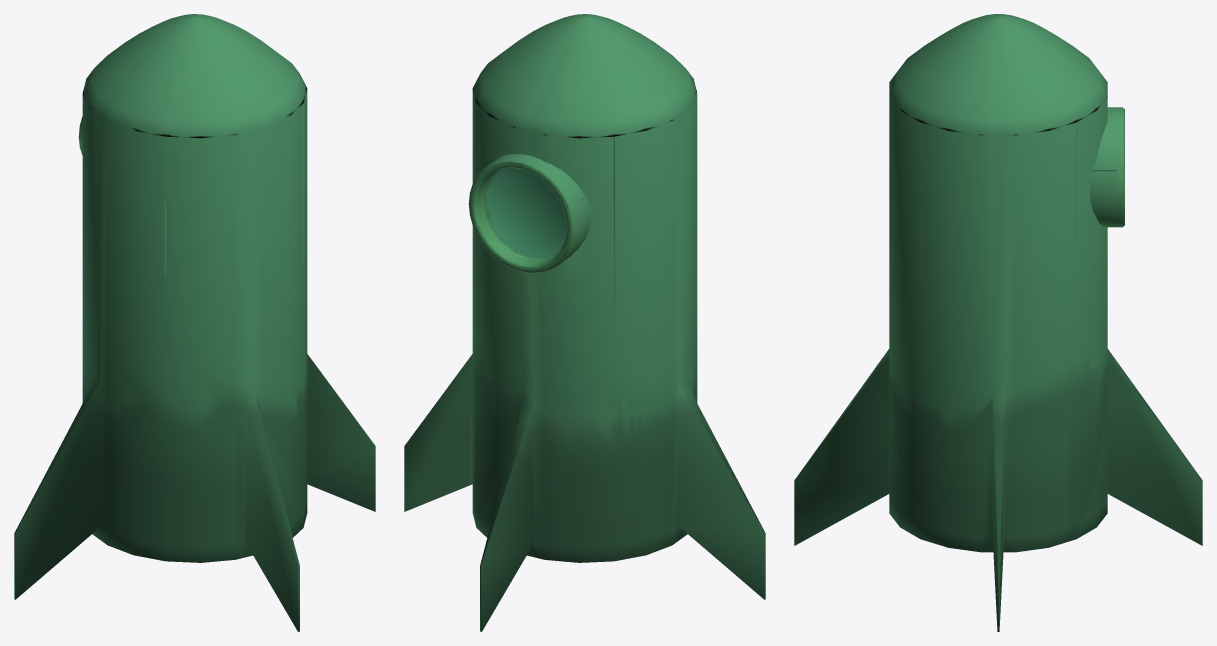
The model's file is rocket.glb.
3 renders of one model, left to right at view 1: azimuth 30°, elevation 25°; view 2: azimuth 150°, elevation 25°; view 3: azimuth 270°, elevation 25°, orthographic.
Visible parts, largest first — view 1: Cylinder; view 2: Cylinder; view 3: Cylinder.
Boxes of the visible parts, box(x1,y1,x2,y2) form: Cylinder: box(14, 14, 375, 631); Cylinder: box(404, 14, 765, 631); Cylinder: box(794, 14, 1202, 631).
Size of the model in its own units: 3.7 by 5.28 by 3.7.
1 material, 1 textured.
